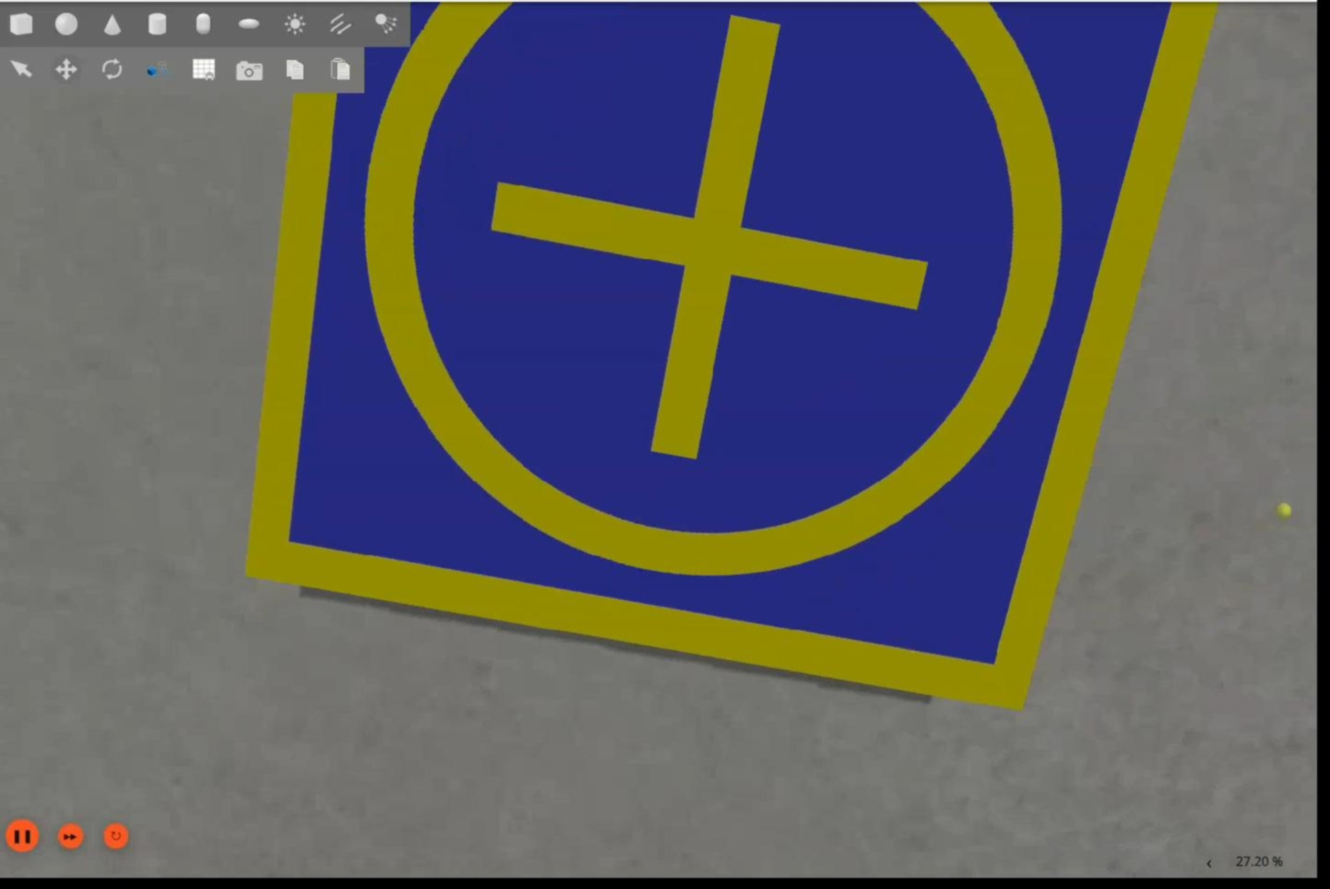small_base: (241, 1, 1214, 709)
